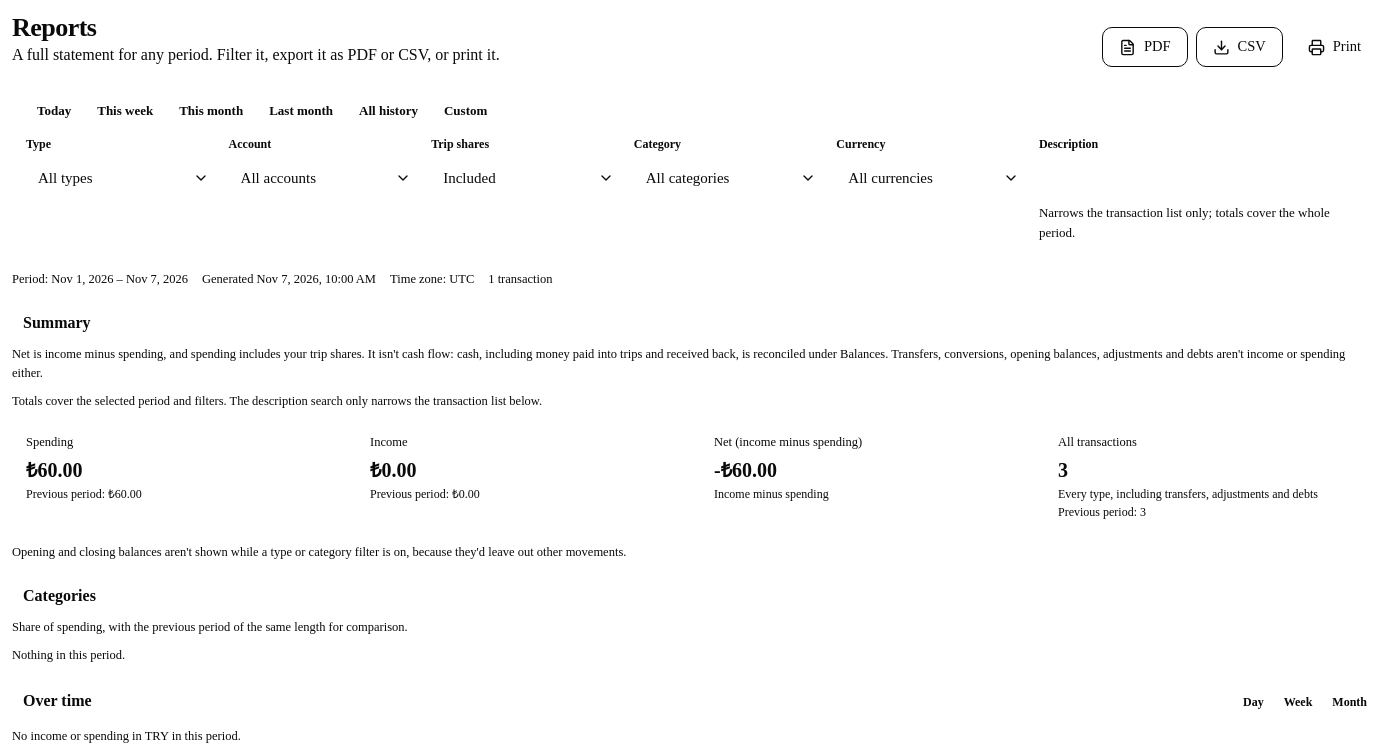
printing a report › says so when the print window is blocked
Click the button "Print" at (1334, 47), box x1=1291 y1=27 x2=1378 y2=67
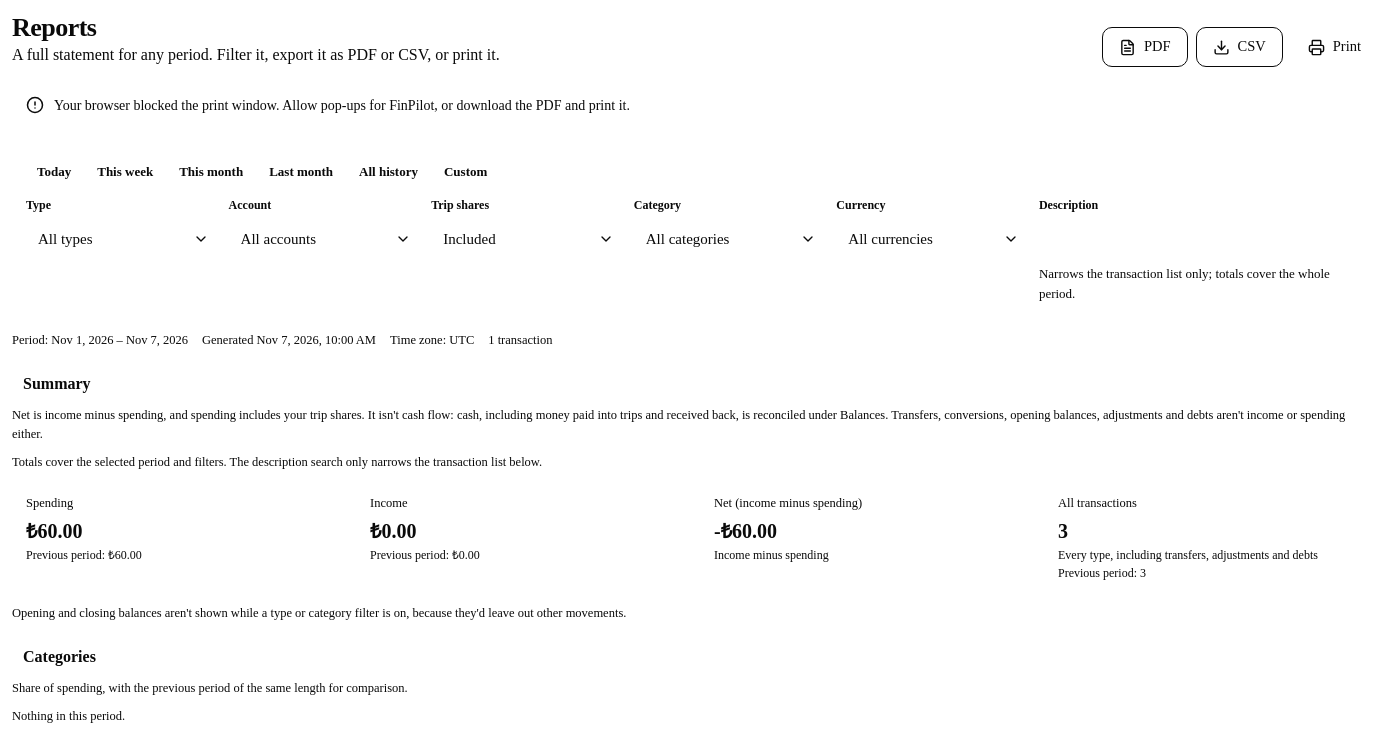
expect the text "blocked the print window" is shown: met, box x1=54 y1=98 x2=630 y2=113
